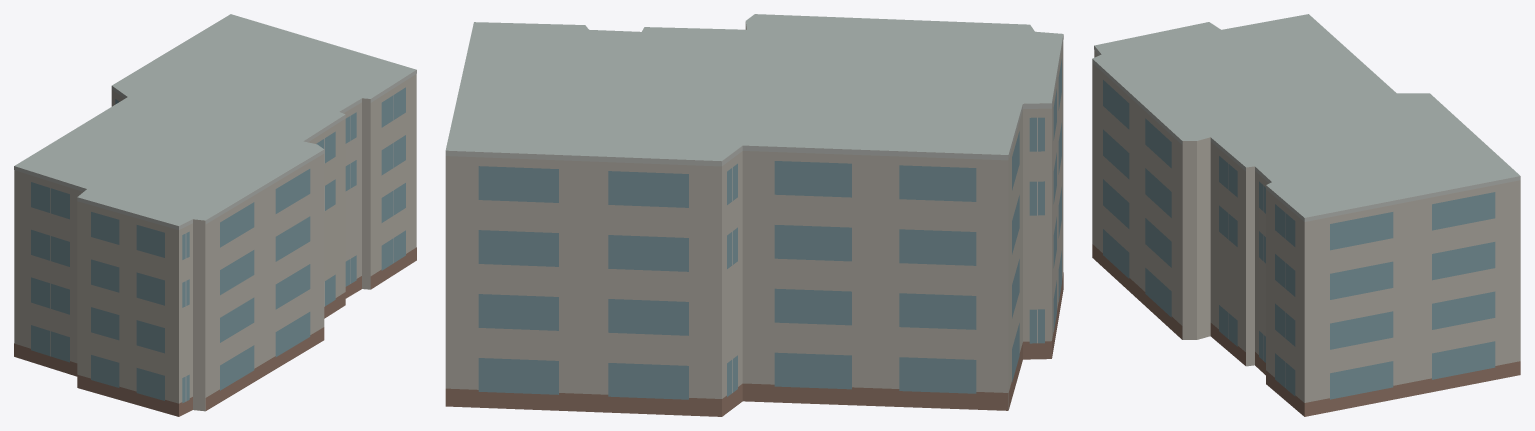
File: survey-upis-32632606.glb
3 renders of one model, left to right at view 1: azimuth 30°, elevation 25°; view 2: azimuth 150°, elevation 25°; view 3: azimuth 270°, elevation 25°, orthographic. The views are drawn at different scales.
Parts seen in each view (by area): view 1: survey-upis-32632606.tmp; view 2: survey-upis-32632606.tmp; view 3: survey-upis-32632606.tmp.
Boxes of the visible parts, x1,y1,x2,y2 form: survey-upis-32632606.tmp: (14,14,416,416); survey-upis-32632606.tmp: (445,14,1063,416); survey-upis-32632606.tmp: (1092,14,1520,416).
Bounding box in the file's own units: 25.73 × 11.7 × 22.84.
